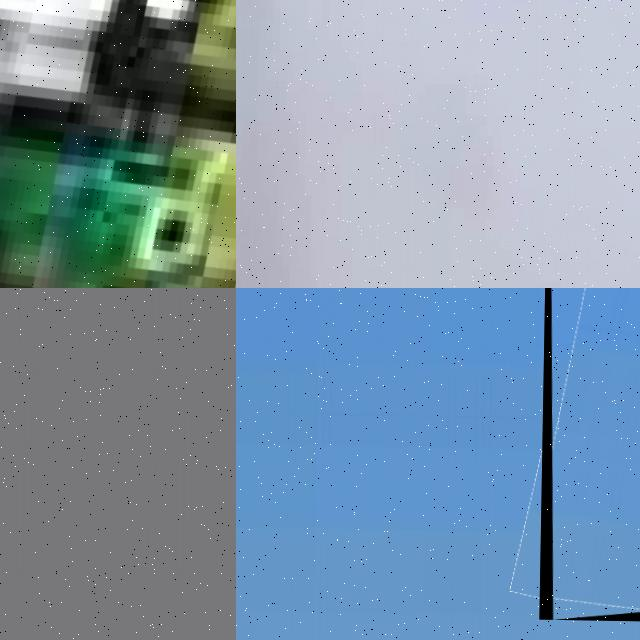drone: (0, 0, 236, 288), (538, 288, 640, 622)
